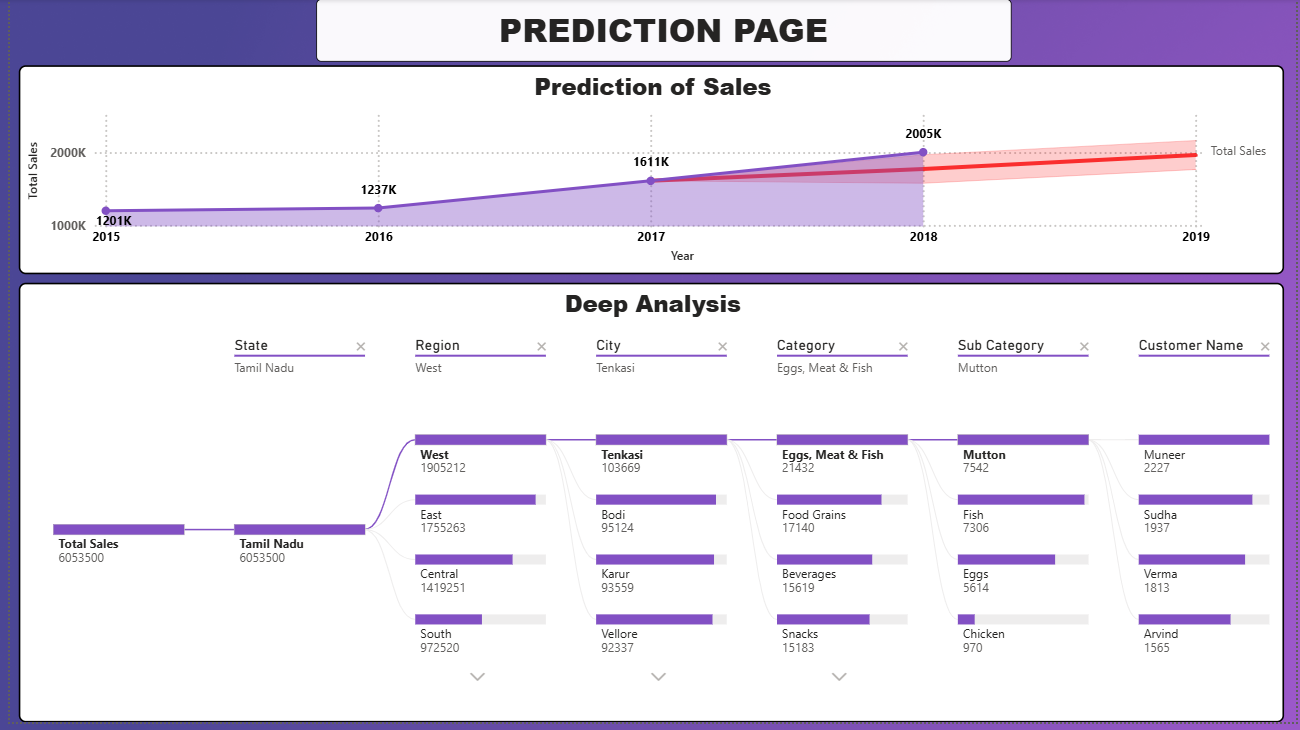

What the dashboard file says about the page in this screenshot:
{"tool":"powerbi","page":{"name":"Page 3","canvas":[1280,720],"ordinal":2},"visuals":[{"type":"decompositionTreeVisual","title":"Deep Analysis","fields":{"ExplainBy":["Supermart Grocery Sales - Retail Analytics Dataset (1).State","Supermart Grocery Sales - Retail Analytics Dataset (1).Region","Supermart Grocery Sales - Retail Analytics Dataset (1).City","Supermart Grocery Sales - Retail Analytics Dataset (1).Category","Supermart Grocery Sales - Retail Analytics Dataset (1).Sub Category","Supermart Grocery Sales - Retail Analytics Dataset (1).Customer Name"],"Analyze":["Supermart Grocery Sales - Retail Analytics Dataset (1).Total Sales"]},"box":[8.7,282.4,1258.9,437.9],"z":0},{"type":"lineChart","title":"Prediction of Sales ","fields":{"Category":["Supermart Grocery Sales - Retail Analytics Dataset (1).Year"],"Y":["Supermart Grocery Sales - Retail Analytics Dataset (1).Total Sales"]},"box":[8.7,65.9,1258.9,207.7],"z":1000},{"type":"textbox","box":[304.8,0,691.6,62],"z":2000}]}

Visuals, with their boxes in screenshot pixels (x1, y1, x2, y2), scaled from the page's 1280x720 canvas onto the 1300x730 screenshot:
"Deep Analysis" decompositionTreeVisual: 9/286/1287/729
"Prediction of Sales " lineChart: 9/67/1287/277
textbox: 310/0/1012/63
